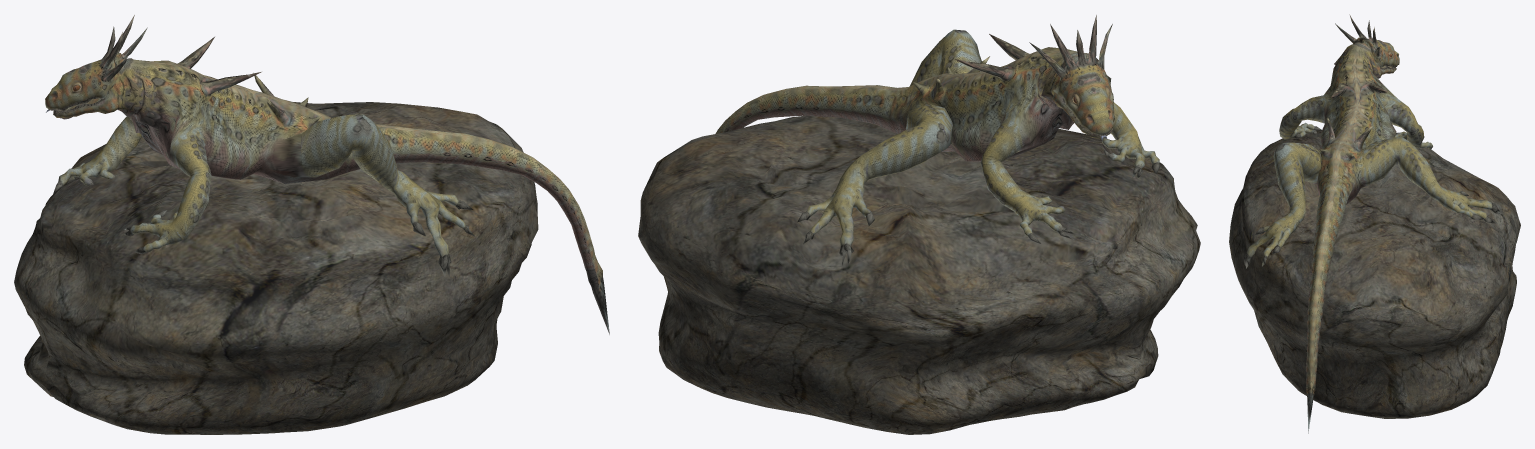
Rendered from lizard.FBX.
The picture shows the model from 3 angles, left to right: view 1: azimuth 30°, elevation 25°; view 2: azimuth 150°, elevation 25°; view 3: azimuth 270°, elevation 25°; orthographic projection. The views are drawn at different scales.
Parts seen in each view (by area): view 1: rock_geo, lizard_geo; view 2: rock_geo, lizard_geo; view 3: rock_geo, lizard_geo.
Part boxes in pixels (x1,y1,x2,y2): rock_geo: (14,102,538,434); lizard_geo: (45,15,609,334); rock_geo: (638,115,1200,434); lizard_geo: (715,15,1160,265); rock_geo: (1229,131,1520,418); lizard_geo: (1243,14,1501,433).
Bounding box in the file's own units: 59.43 × 45.62 × 40.95.
3 materials, 3 textured.
